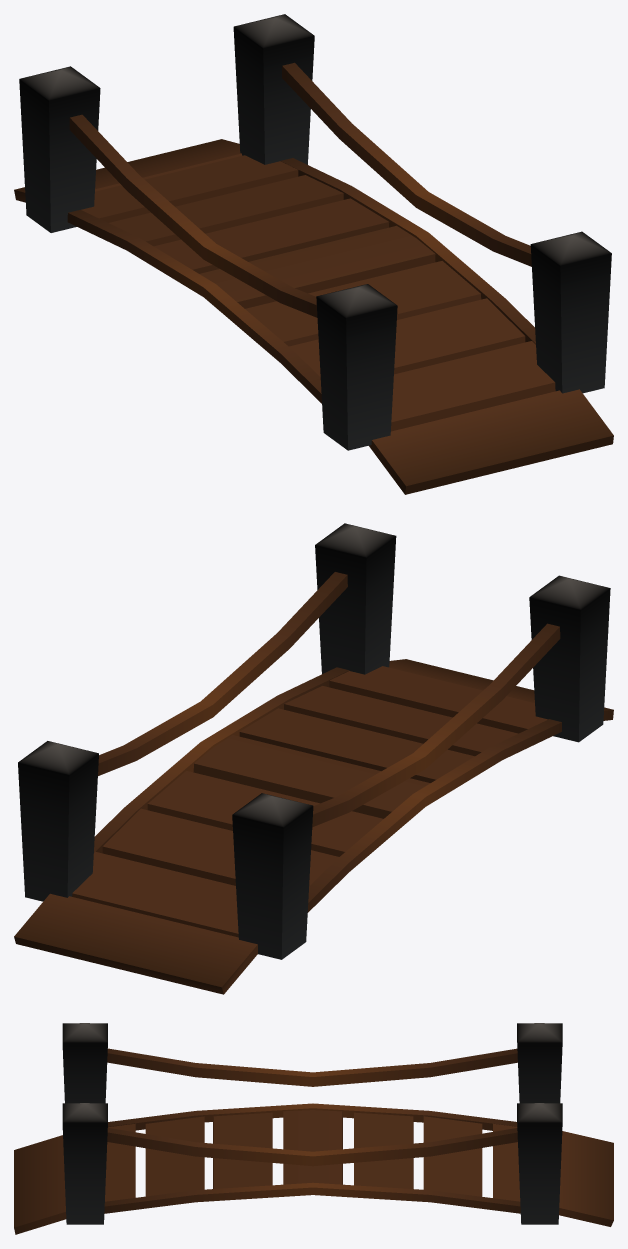
Rendered from Textured_BridgespolySurface151.fbx.
The picture shows the model from 3 angles, top to bottom: view 1: azimuth 30°, elevation 25°; view 2: azimuth 150°, elevation 25°; view 3: azimuth 270°, elevation 25°; orthographic projection. The views are drawn at different scales.
Visible parts, largest first — view 1: polySurface151; view 2: polySurface151; view 3: polySurface151.
Boxes of the visible parts, box(x1,y1,x2,y2) form: polySurface151: box(14, 14, 613, 494); polySurface151: box(14, 523, 613, 994); polySurface151: box(14, 1023, 613, 1234).
Bounding box in the file's own units: 3.84 × 2.41 × 9.8.
